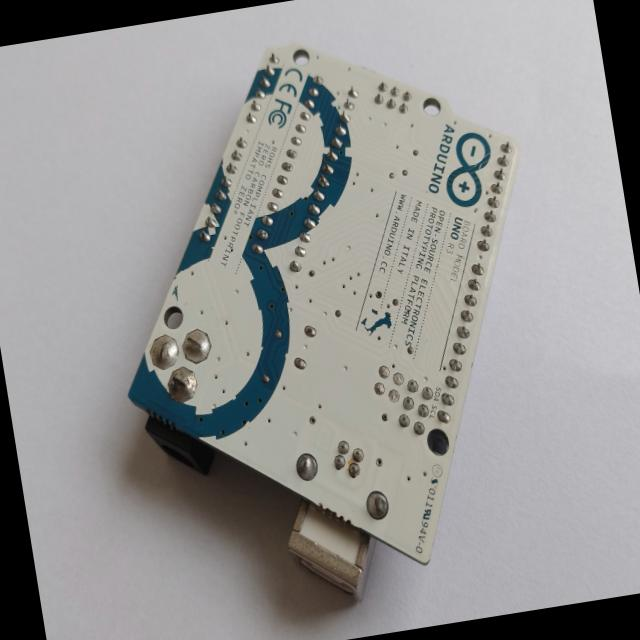arduino: (80, 4, 592, 640)
